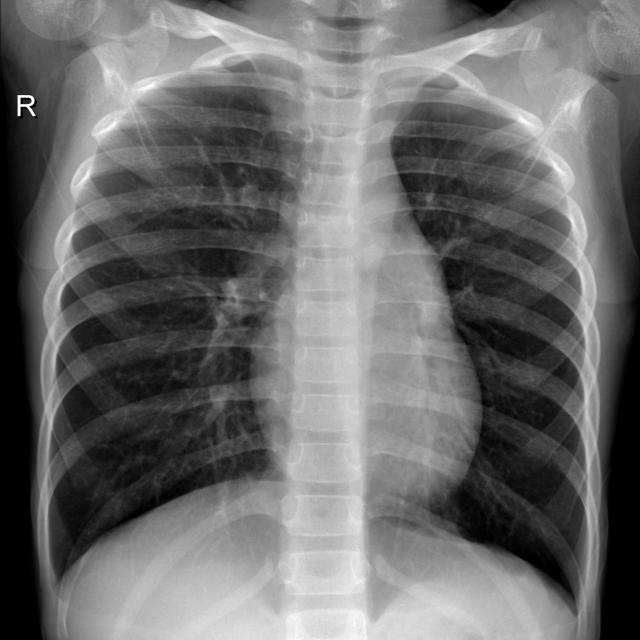no-pneumonia: (47, 71, 302, 562), (394, 94, 591, 612)
